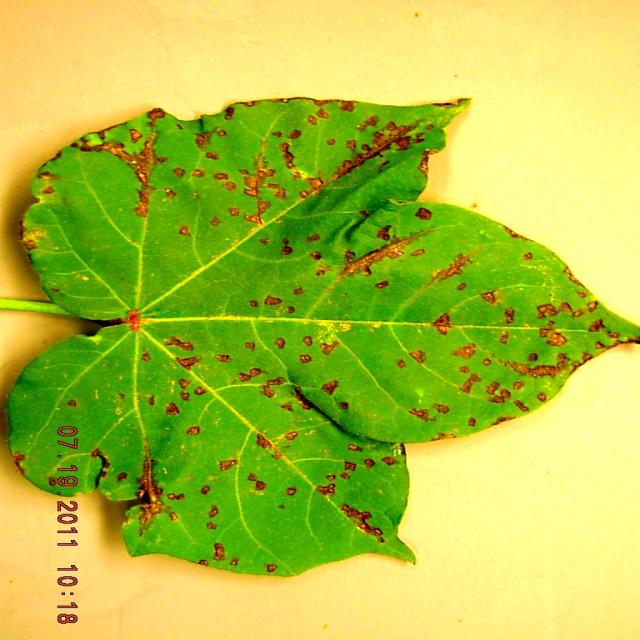Bacterial Blight: (163, 294, 584, 451), (115, 114, 417, 272)
